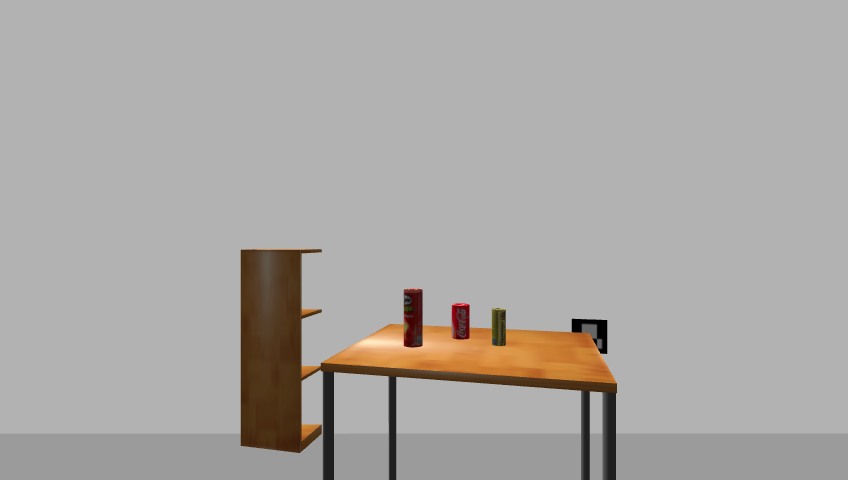aruco marker: (568, 317, 611, 356)
biscuits pack: (491, 308, 507, 348)
bookshelf: (236, 246, 328, 456)
coke can: (450, 303, 471, 341)
dinner table: (316, 322, 625, 479)
pringles can: (401, 288, 423, 349)
